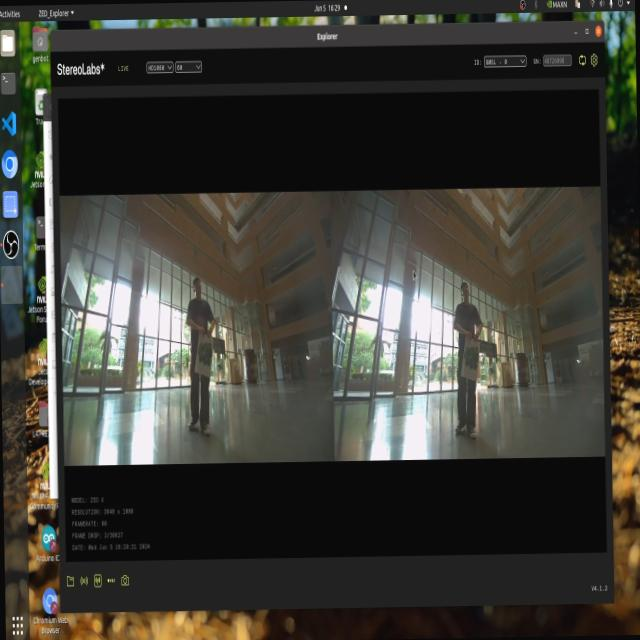green: (460, 340, 480, 377), (195, 337, 212, 377)
